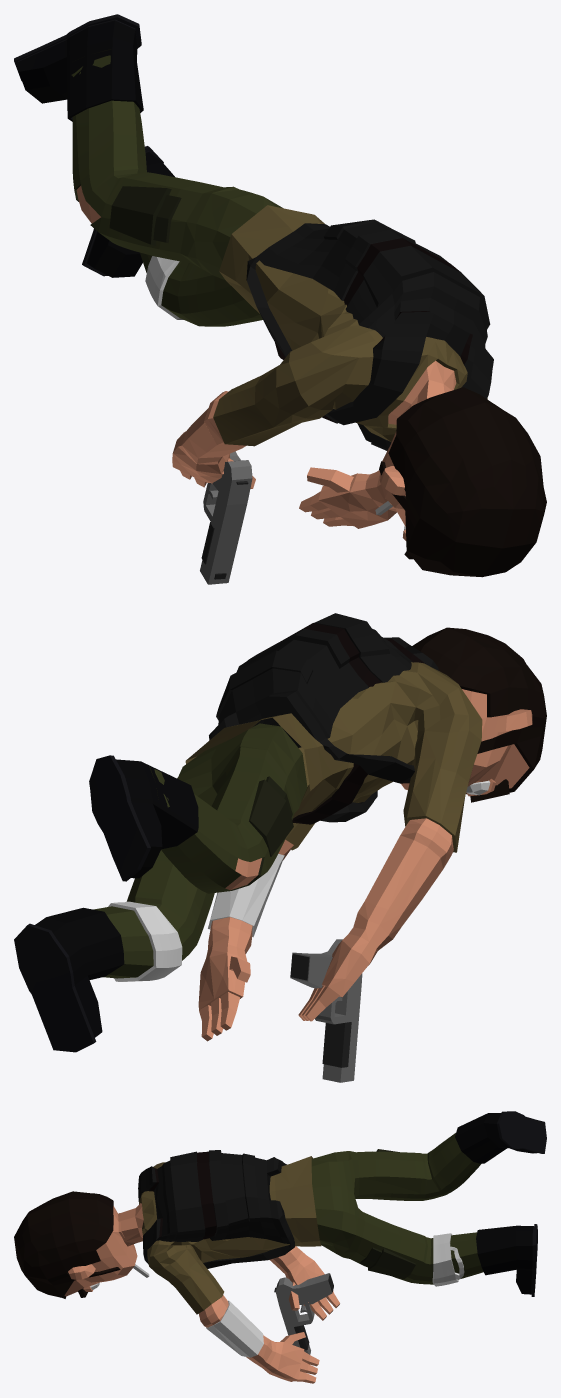
File: frame_0065.obj
The picture shows the model from 3 angles, top to bottom: view 1: azimuth 30°, elevation 25°; view 2: azimuth 150°, elevation 25°; view 3: azimuth 270°, elevation 25°; orthographic projection. The views are drawn at different scales.
Parts seen in each view (by area): view 1: Body, Gun; view 2: Body, Gun; view 3: Body, Gun.
Boxes of the visible parts, x1=… form: Body: x1=14, y1=14, x2=546, y2=577; Gun: x1=200, y1=451, x2=252, y2=584; Body: x1=14, y1=613, x2=546, y2=1052; Gun: x1=290, y1=939, x2=362, y2=1082; Body: x1=14, y1=1111, x2=546, y2=1383; Gun: x1=274, y1=1273, x2=333, y2=1354.
Size of the model in its own units: 1.31 by 2.28 by 4.14.
